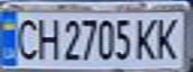0: (97, 16, 118, 61)
2: (60, 15, 81, 61)
5: (112, 16, 136, 61)
7: (78, 16, 100, 61)
C: (9, 15, 42, 61)
H: (33, 15, 60, 61)
K: (151, 15, 184, 61), (133, 15, 160, 61)
